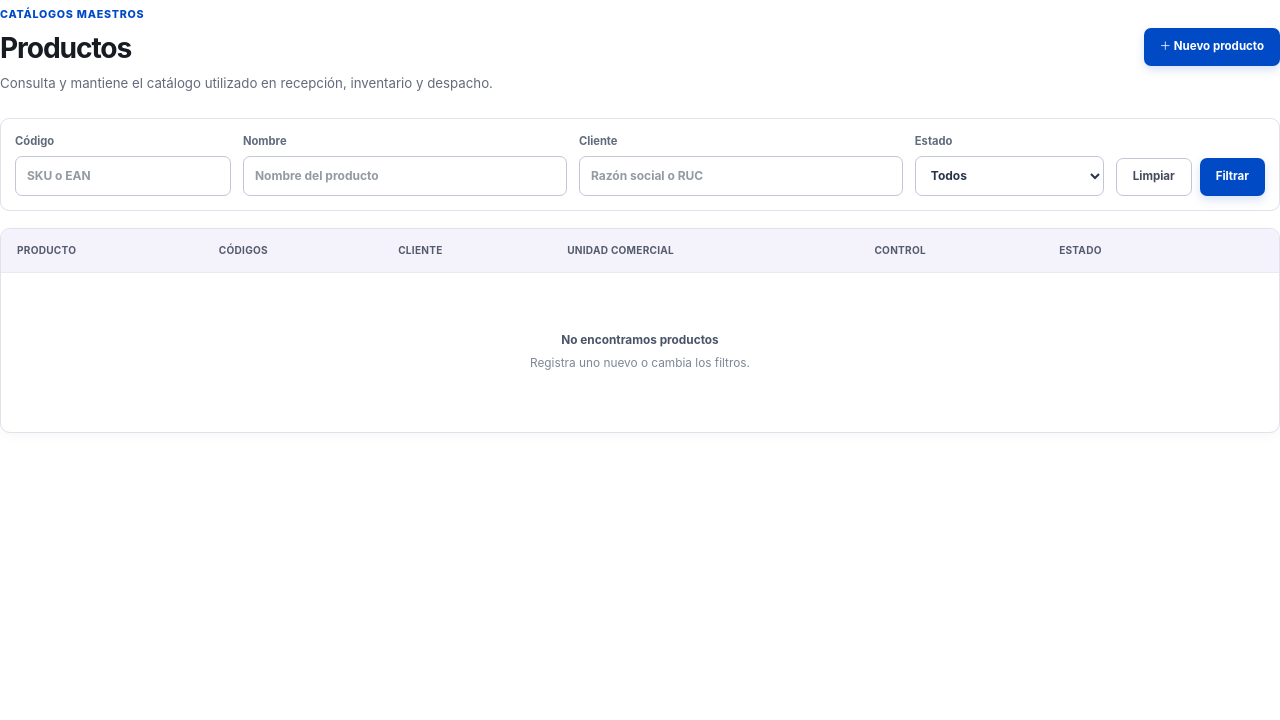
Test: ProductsPage › rejects product codes that are not EAN-8 or EAN-13
Click the button "＋ Nuevo producto".
click(1212, 47)  # box [1144, 28, 1279, 66]
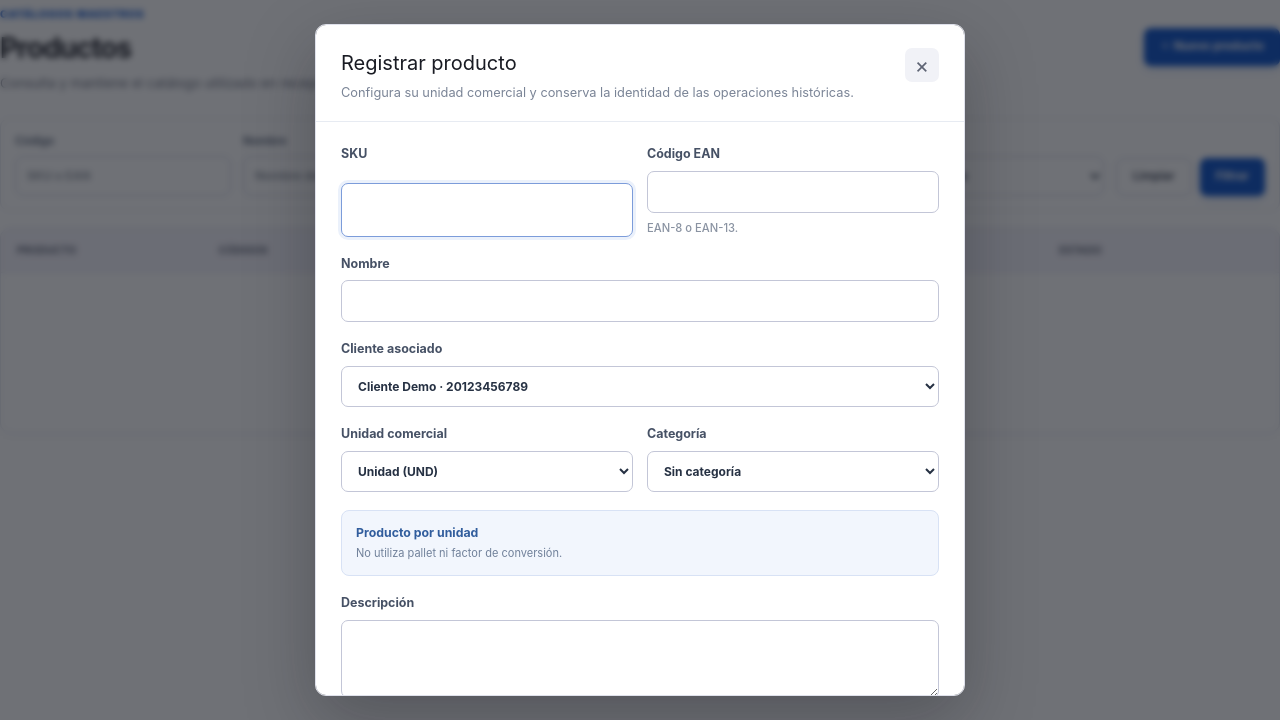
Type "SKU-01" into the field labelled "SKU".
click(487, 210); type("SKU-01")  # box [341, 183, 633, 237]
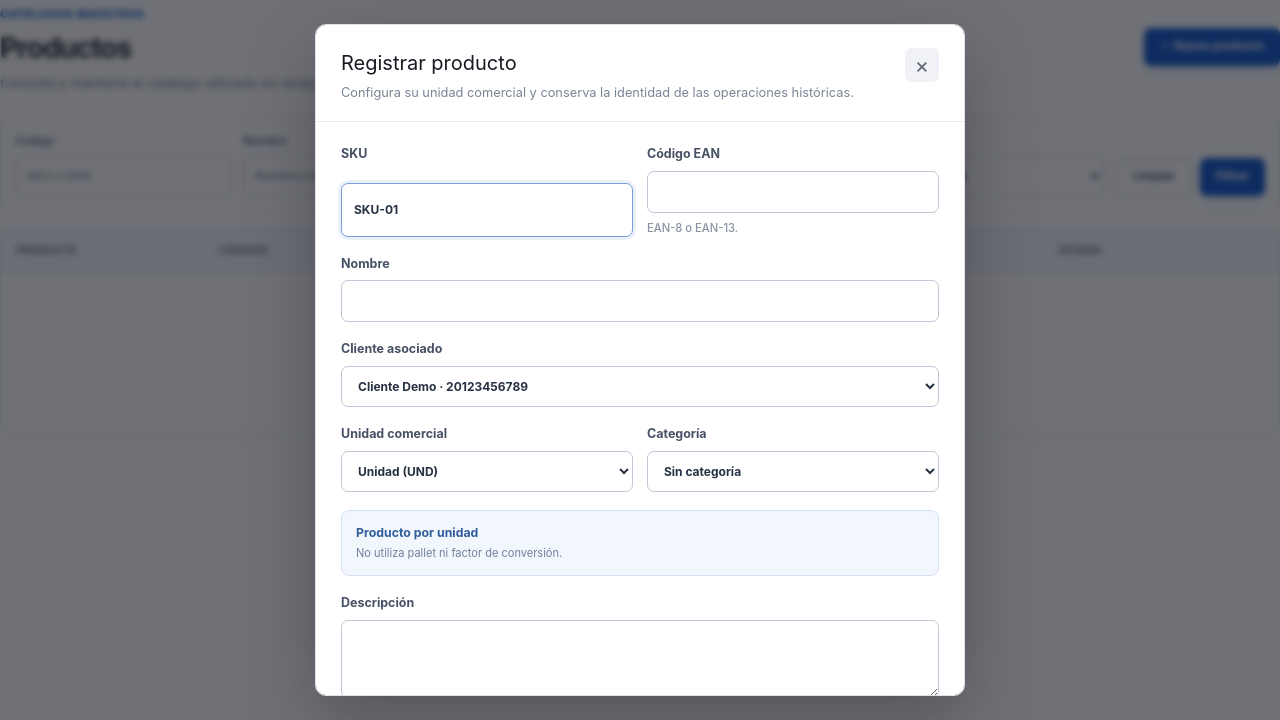
Type "123456789" into the field labelled "Código EAN EAN-8 o EAN-13.".
click(793, 192); type("123456789")  # box [647, 171, 939, 213]
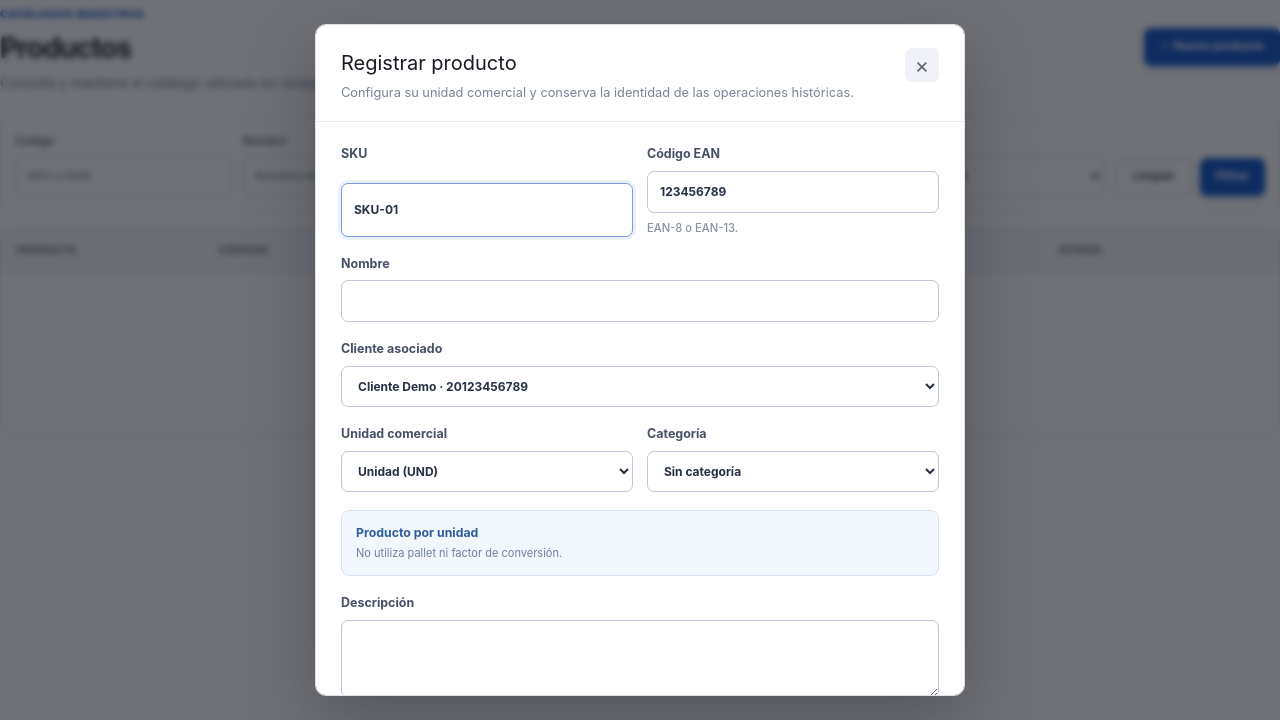
Type "Producto Demo" into the field labelled "Nombre".
click(640, 301); type("Producto Demo")  # box [341, 280, 939, 322]
(page scrolled)
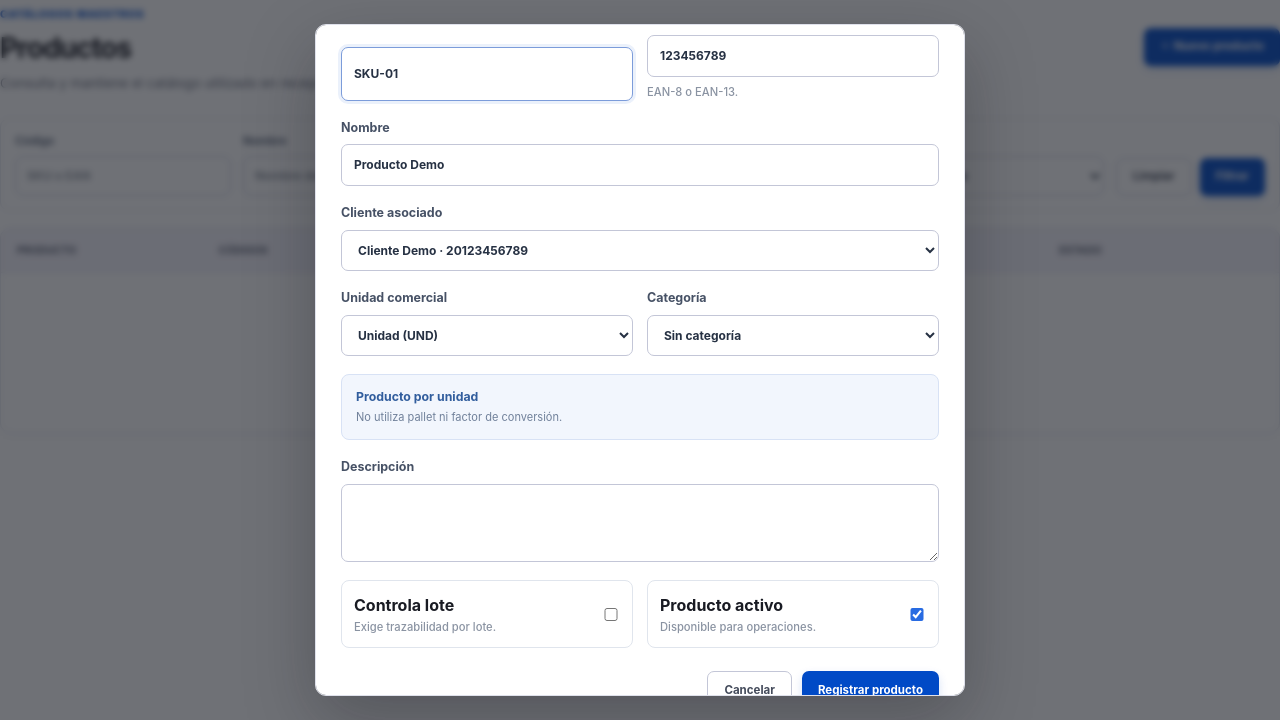
Submit the form named "Registrar producto"
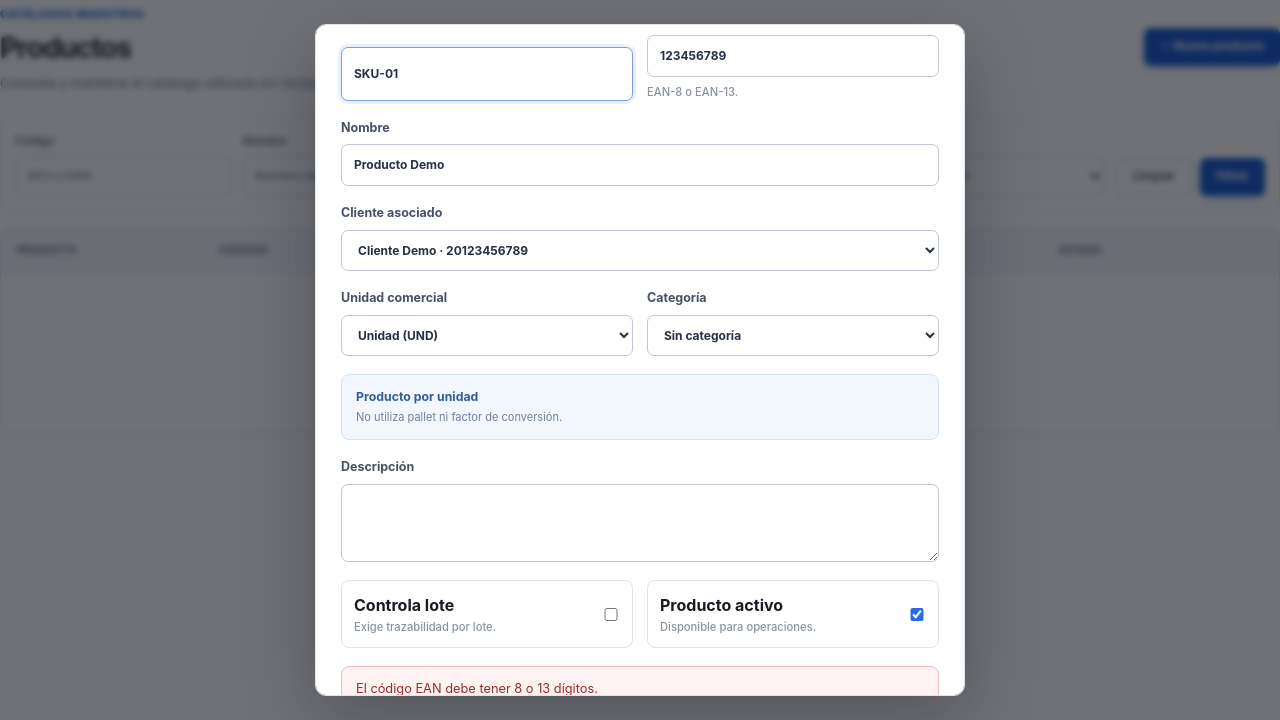
Result: the message reads "El código EAN debe tener 8 o 13 dígitos." at [356, 681, 598, 696]
